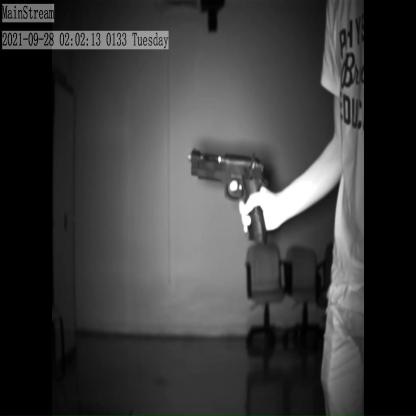weapon: (188, 147, 270, 249)
